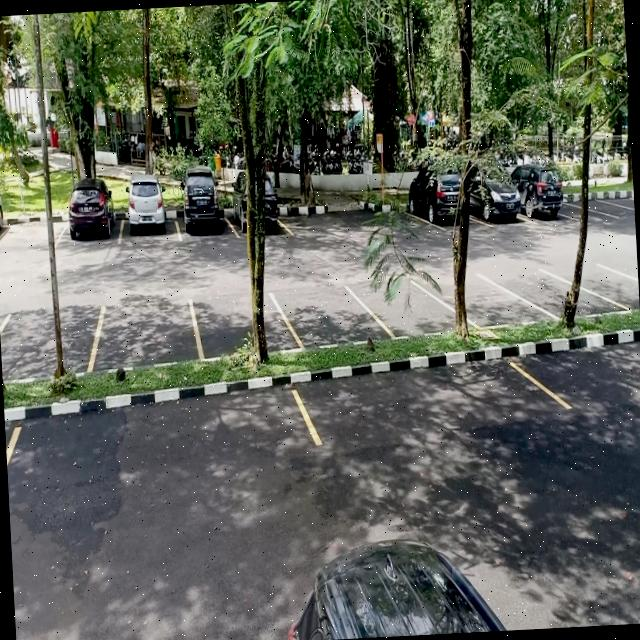empty: (4, 386, 311, 501), (306, 358, 550, 458), (0, 304, 98, 381), (94, 298, 198, 370), (192, 290, 292, 360), (287, 278, 374, 347), (366, 278, 455, 340), (451, 270, 529, 330), (524, 264, 598, 321), (0, 203, 63, 256), (588, 262, 640, 312)
occupied: (176, 174, 232, 242), (59, 190, 122, 249), (119, 185, 179, 245)
